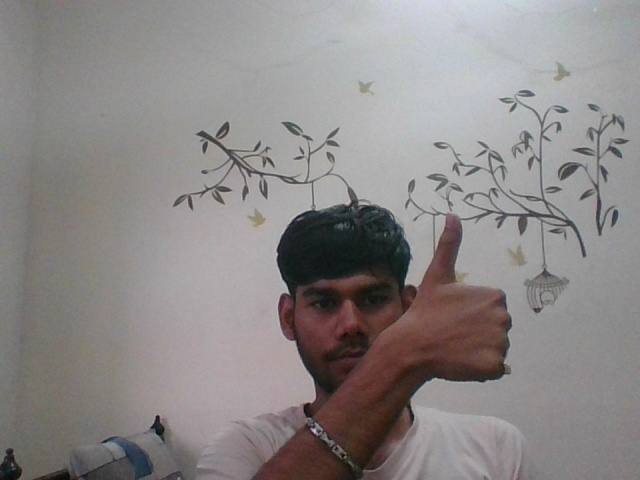Yes: (355, 201, 514, 408)
